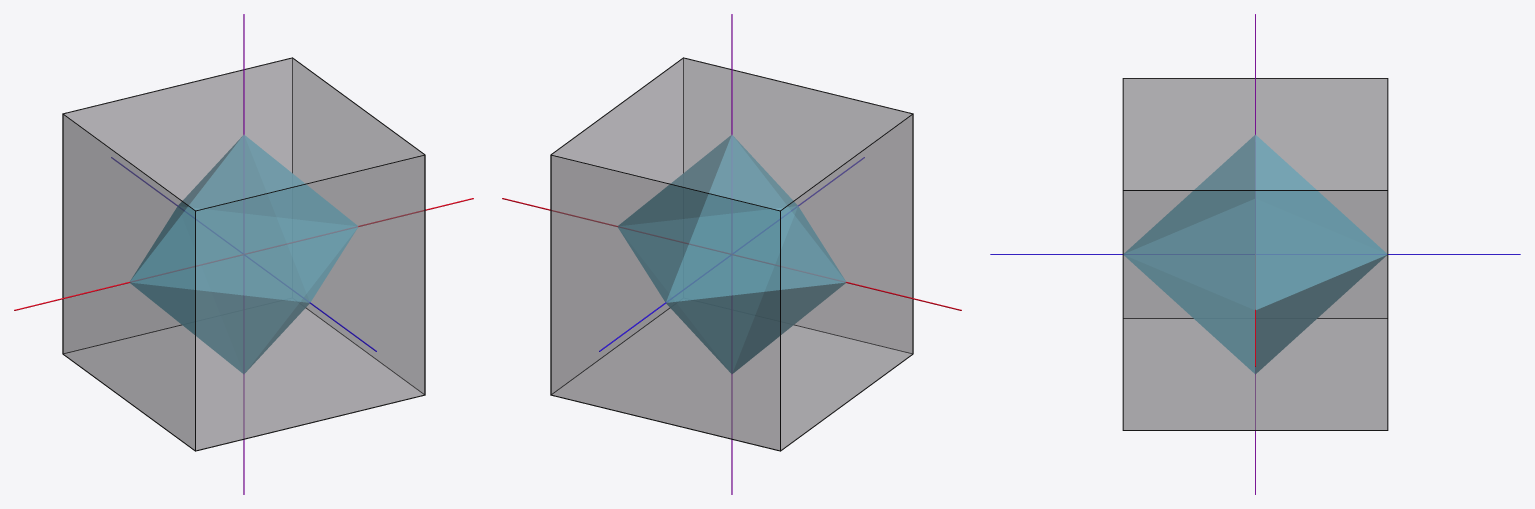
The model's file is hexa_tetra_1.glb.
The picture shows the model from 3 angles, left to right: view 1: azimuth 30°, elevation 25°; view 2: azimuth 150°, elevation 25°; view 3: azimuth 270°, elevation 25°; orthographic projection.
Visible parts, largest first — view 1: Cube, Solid, Cube.001, Cylinder.002; view 2: Cube, Solid, Cube.001, Cylinder.002; view 3: Cube, Solid, Cube.001.
Part boxes in pixels (left/top/right/bottom): Cube: left=63, top=58, right=424, bottom=450; Solid: left=130, top=135, right=357, bottom=373; Cube.001: left=62, top=57, right=425, bottom=451; Cylinder.002: left=14, top=198, right=473, bottom=310; Cube: left=551, top=58, right=912, bottom=450; Solid: left=618, top=135, right=845, bottom=373; Cube.001: left=550, top=57, right=913, bottom=451; Cylinder.002: left=502, top=198, right=961, bottom=310; Cube: left=1123, top=78, right=1387, bottom=429; Solid: left=1124, top=135, right=1386, bottom=373; Cube.001: left=1122, top=78, right=1388, bottom=430.
Bounding box in the file's own units: 4 × 4 × 4.
